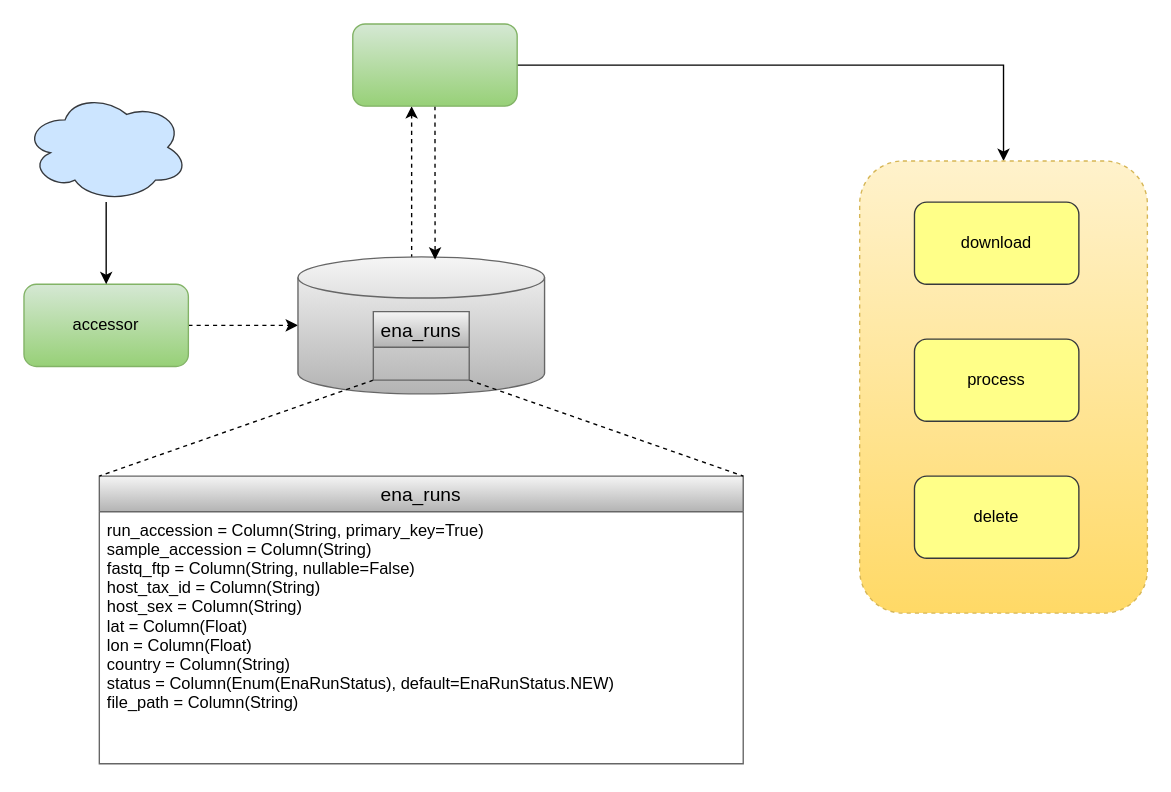
The diagram is 1171 pixels wide and 792 high, and some of its shapes have lost their labels. Each missing label, with the centre of its shape:
ENA: (x=105, y=146)
processor: (x=434, y=64)
